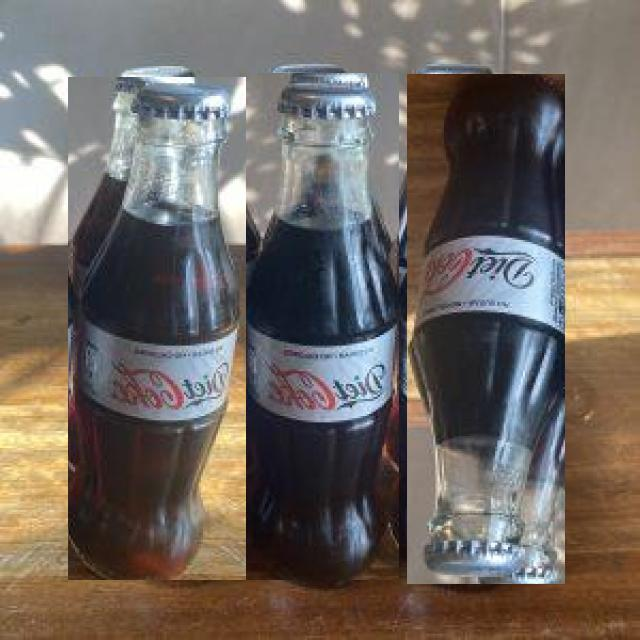coca-cola: (68, 77, 246, 580), (239, 73, 399, 580), (408, 75, 566, 584)
